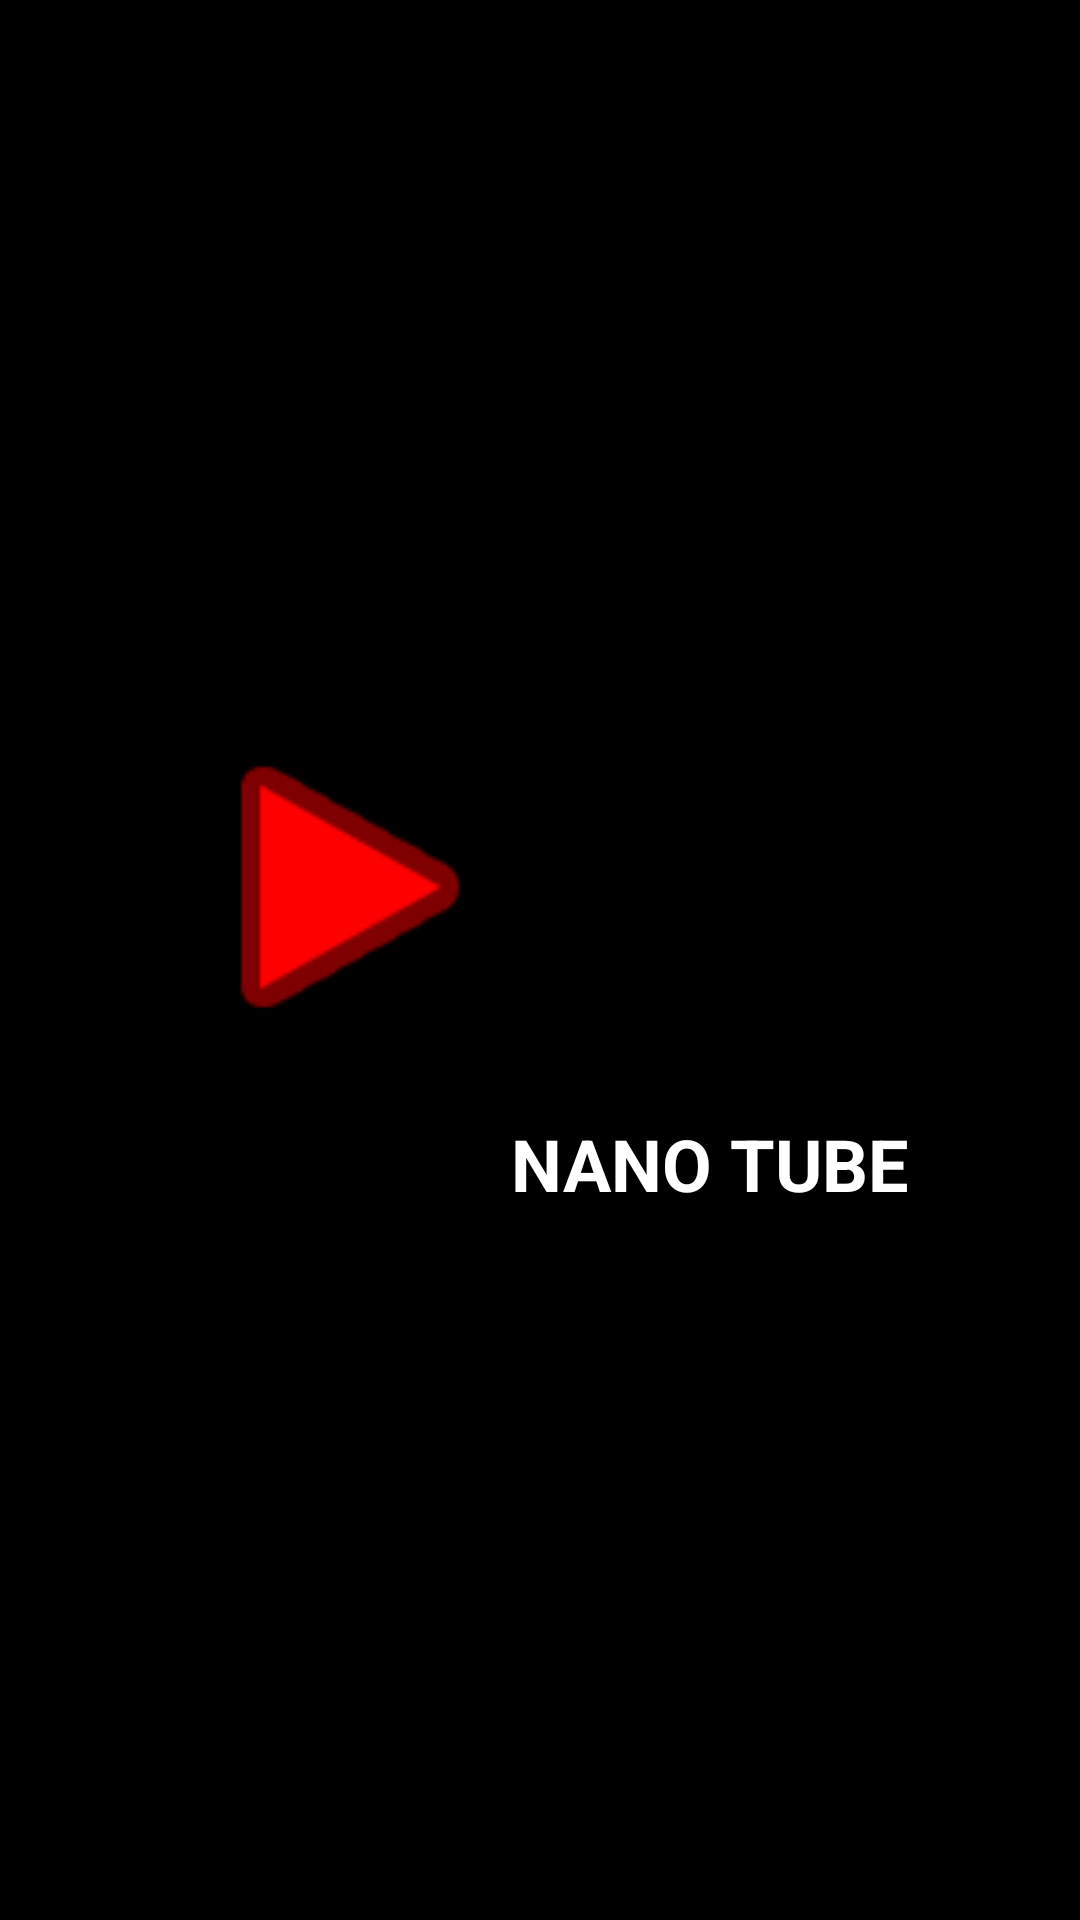

Named icons in this screenshot (1080x1920) and their bounding boxes, BBox(x1, y1, x2, y2):
play: BBox(240, 766, 460, 1008)
